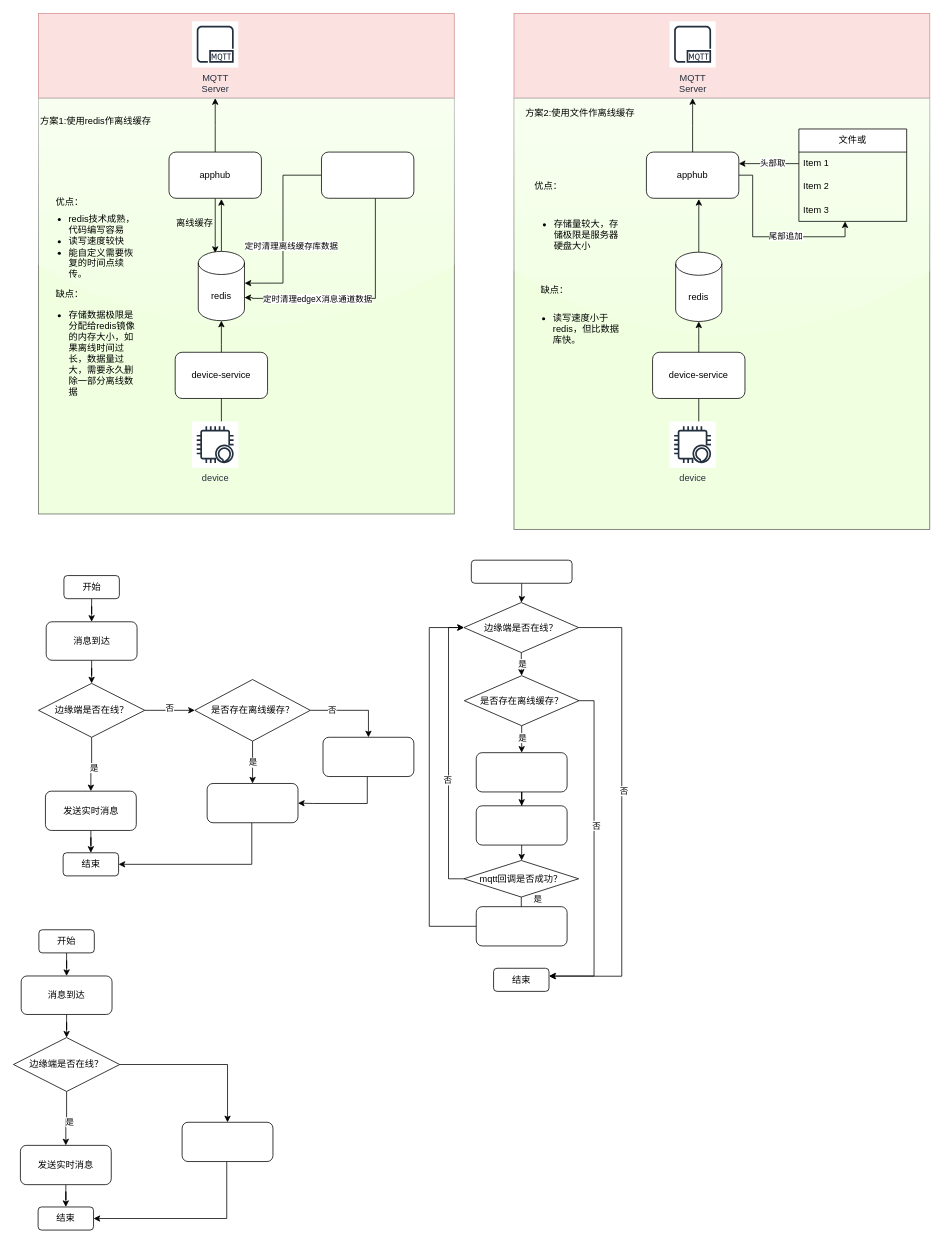
The diagram is 943 pixels wide and 1244 high, and some of its shapes have lost their labels. Here are the shapes that lost their labels. From the top down, the centre of each, then its label:
At (367,174): "schedule".
At (521,571): "缓存续传定时任务开始".
At (368,757): "创建缓存文件".
At (521,772): "获取缓存消息".
At (252,803): "缓存消息".
At (521,825): "发送MQTT消息".
At (521,926): "删除缓存".
At (227,1142): "redis缓存消息".
